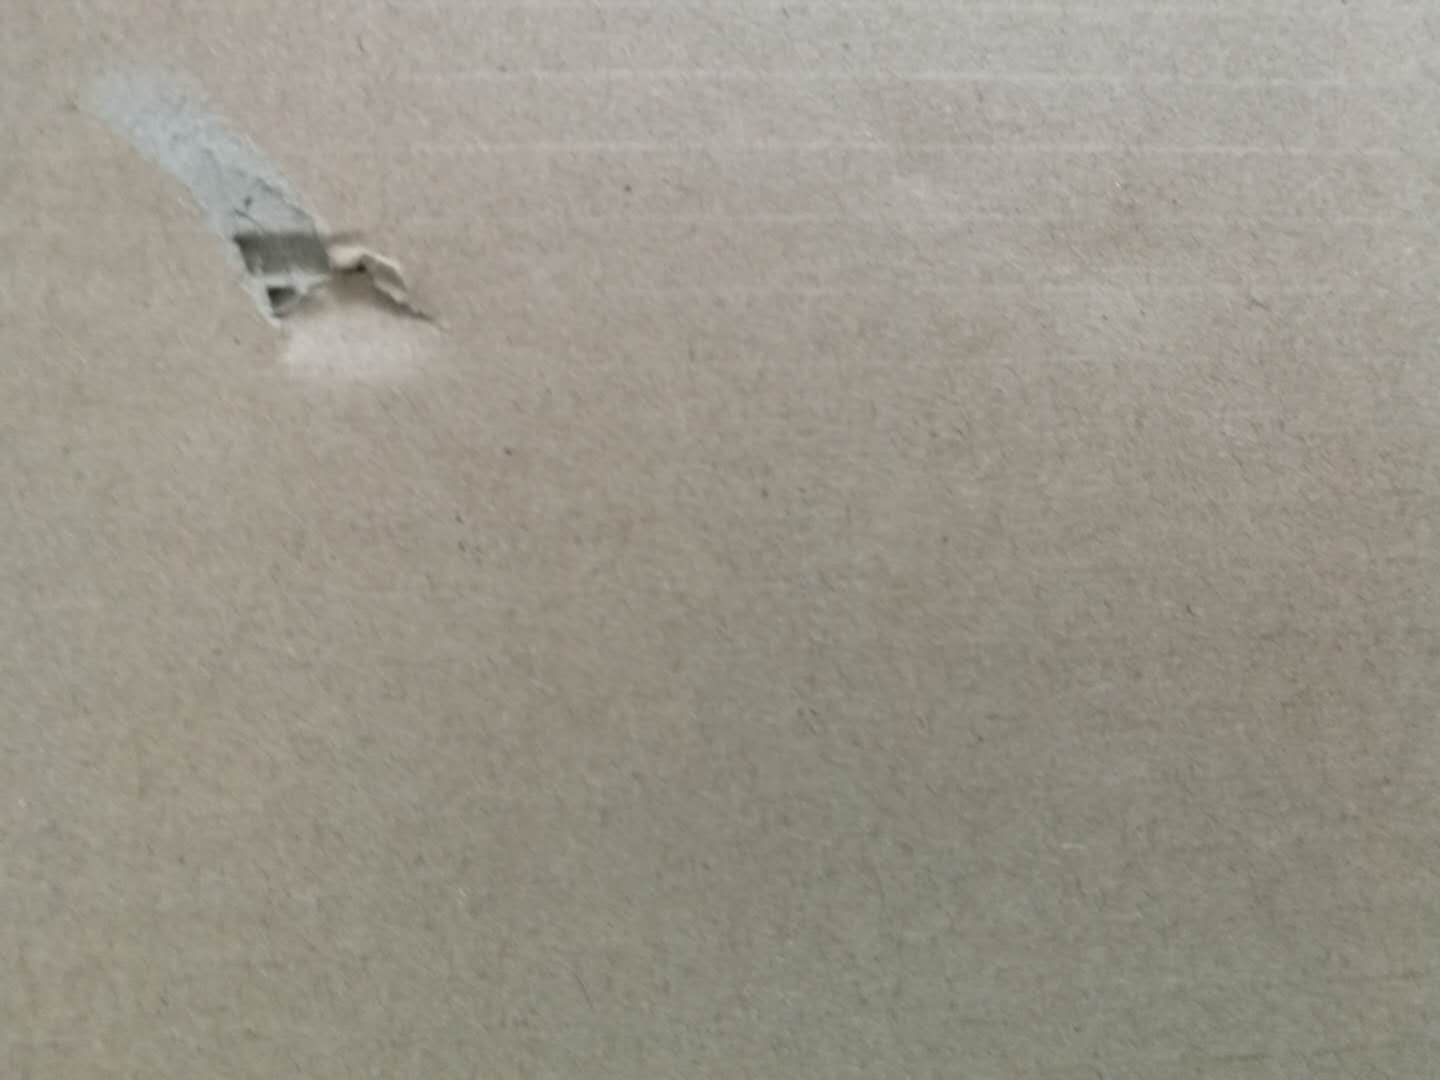defect: (54, 35, 488, 390)
